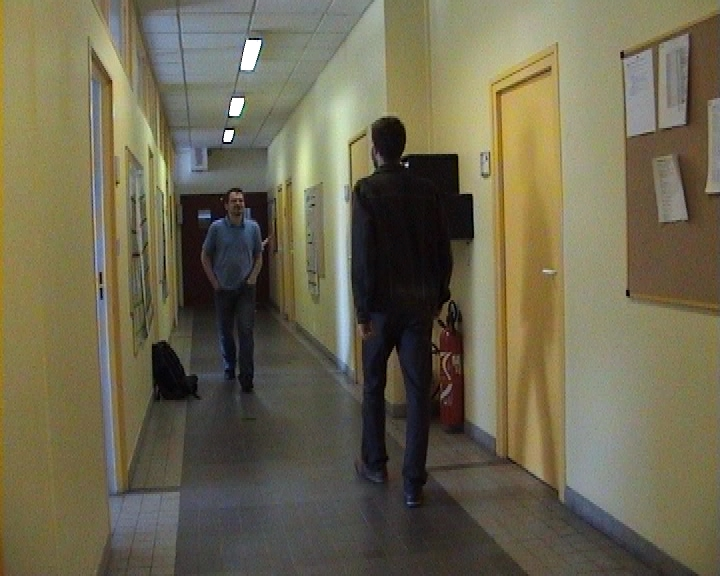leave bag unattended: (135, 249, 310, 459)
